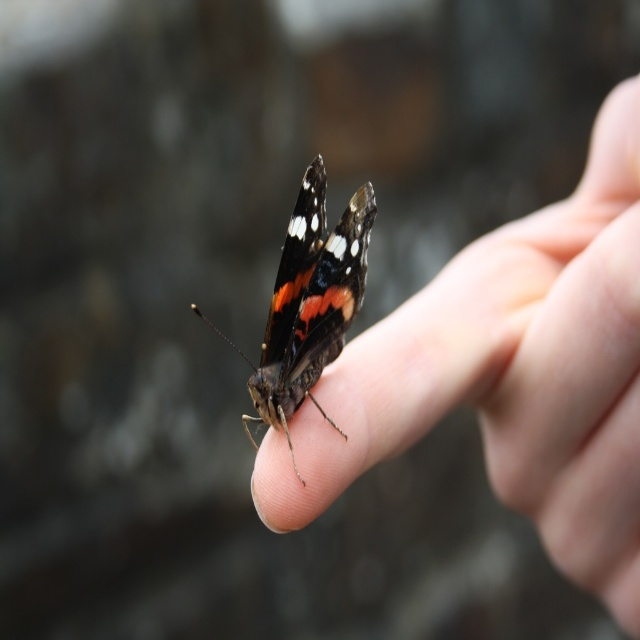Butterfly: (200, 139, 378, 483)
